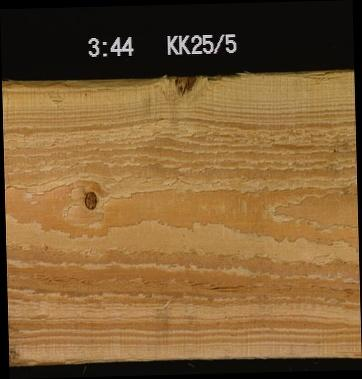dry_knot: (82, 189, 98, 210)
split: (305, 69, 335, 79)
wave: (1, 73, 304, 83)
